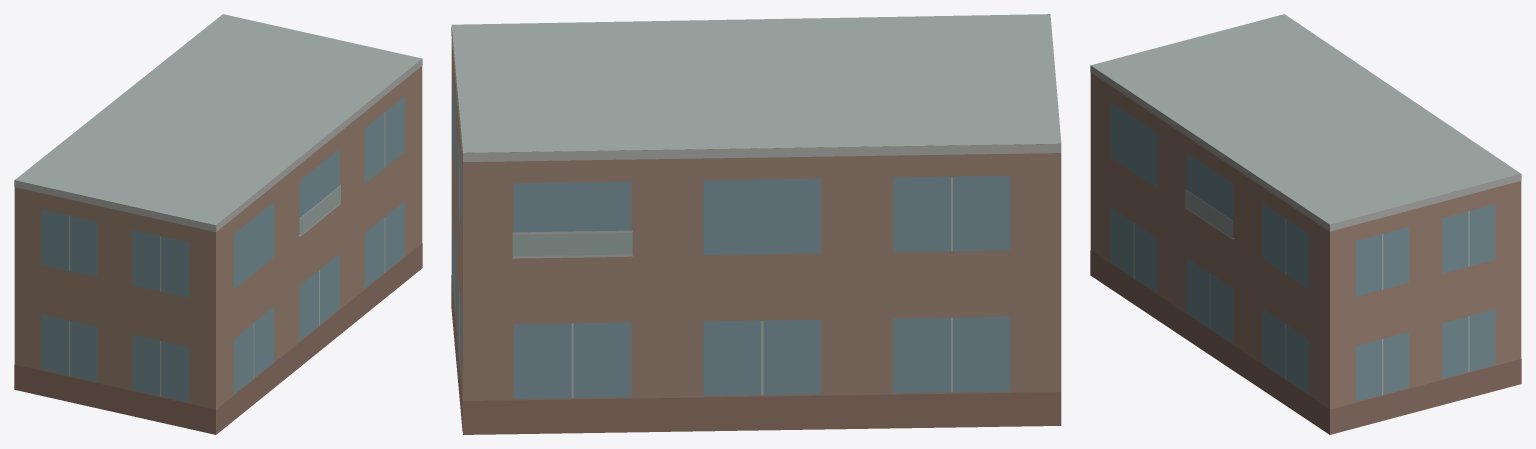
Rendered from survey-upis-32619354.glb.
3 renders of one model, left to right at view 1: azimuth 30°, elevation 25°; view 2: azimuth 150°, elevation 25°; view 3: azimuth 270°, elevation 25°, orthographic. The views are drawn at different scales.
Visible parts, largest first — view 1: survey-upis-32619354.tmp; view 2: survey-upis-32619354.tmp; view 3: survey-upis-32619354.tmp.
Boxes of the visible parts, <box> form: survey-upis-32619354.tmp: <box>14,14,422,434</box>; survey-upis-32619354.tmp: <box>451,14,1061,434</box>; survey-upis-32619354.tmp: <box>1090,14,1521,434</box>.
Size of the model in its own units: 15.92 by 7.4 by 13.76.
